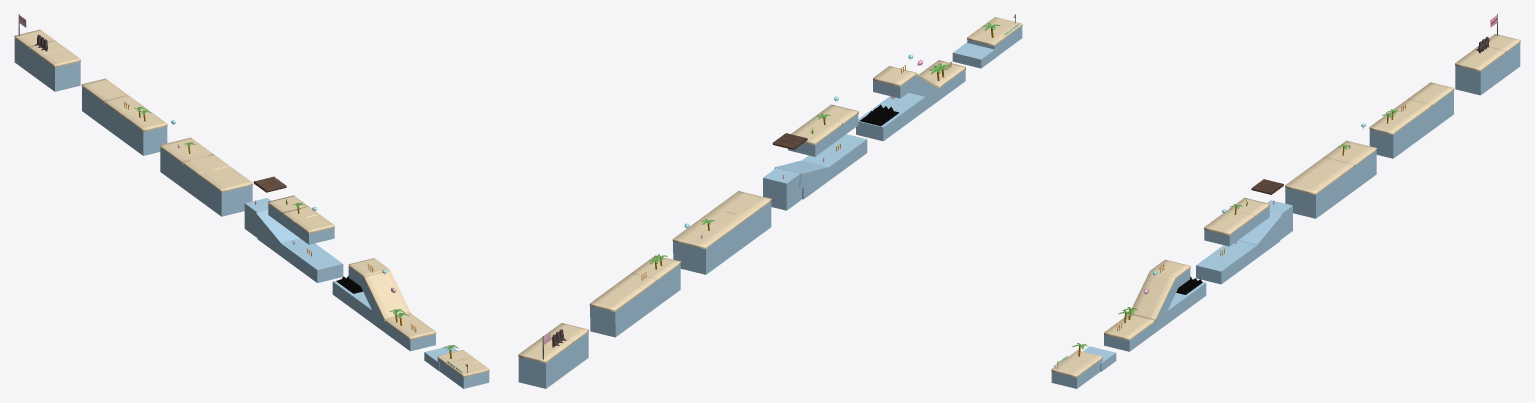
File: Mainsea.fbx
The picture shows the model from 3 angles, left to right: view 1: azimuth 30°, elevation 25°; view 2: azimuth 150°, elevation 25°; view 3: azimuth 330°, elevation 25°; orthographic projection. The views are drawn at different scales.
Visible parts, largest first — view 1: Road.004, Road.006, Road.003, Road.005, Road.011, Road.002, Road; view 2: Road.006, Road.003, Road.004, Road.005, Road.011, Road, Road.002, trap; view 3: Road.004, Road.006, Road.003, Road.005, Road.011, Road.002, Road.
Part boxes in pixels (x1,y1,x2,y2): Road.004: [332, 258, 436, 351]; Road.006: [159, 137, 252, 216]; Road.003: [81, 78, 167, 155]; Road.005: [244, 198, 343, 282]; Road.011: [14, 29, 80, 91]; Road.002: [268, 195, 334, 244]; Road: [424, 347, 489, 388]; Road.006: [672, 191, 771, 274]; Road.003: [589, 255, 680, 337]; Road.004: [856, 60, 965, 141]; Road.005: [763, 134, 867, 210]; Road.011: [518, 323, 588, 388]; Road: [952, 17, 1022, 68]; Road.002: [788, 104, 858, 156]; trap: [860, 104, 899, 126]; Road.004: [1104, 259, 1206, 351]; Road.006: [1285, 140, 1376, 218]; Road.003: [1369, 82, 1454, 158]; Road.005: [1196, 200, 1292, 284]; Road.011: [1455, 34, 1520, 95]; Road.002: [1204, 197, 1269, 246]; Road: [1051, 346, 1116, 388].
Size of the model in its own units: 2389 by 1250 by 31168.
